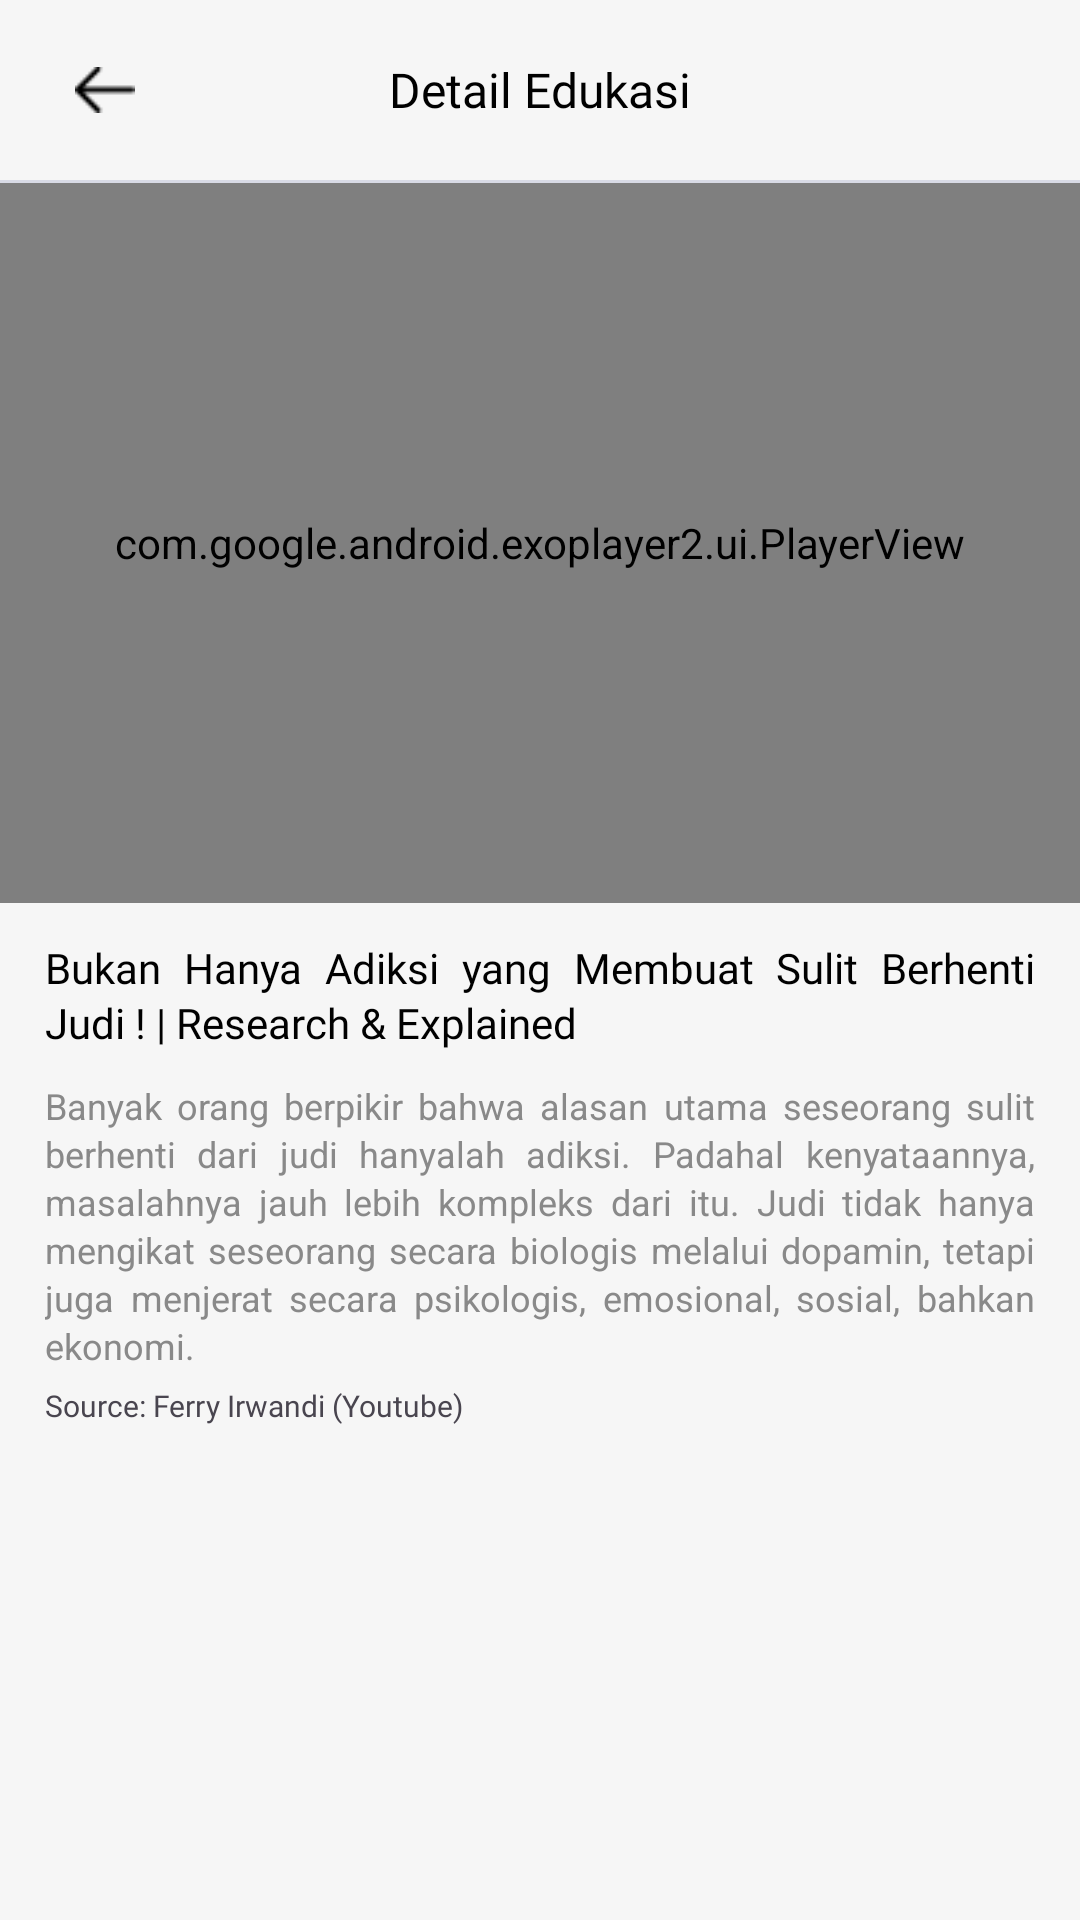

Where to tap for icons on this 1080 × 1920 app screen, as (x,y):
arrow left: (105,90)
